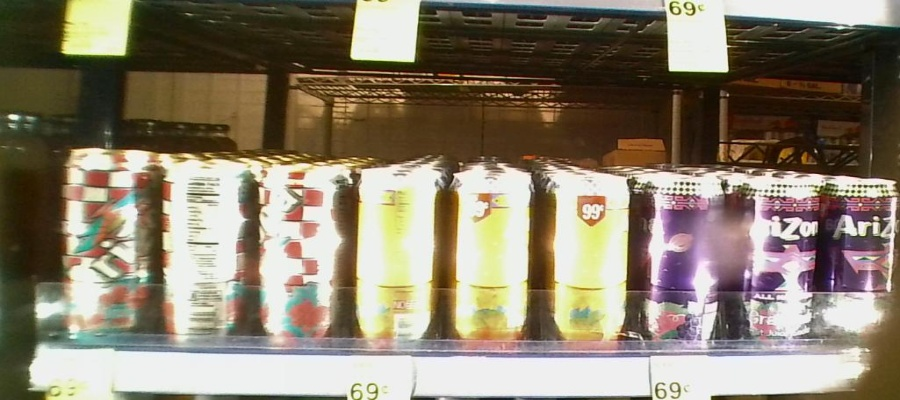bottle: (60, 137, 156, 342), (157, 153, 256, 347), (439, 160, 539, 352), (542, 150, 631, 353), (256, 154, 344, 354), (633, 162, 724, 352), (350, 155, 436, 353), (733, 167, 816, 347), (822, 164, 900, 351)
